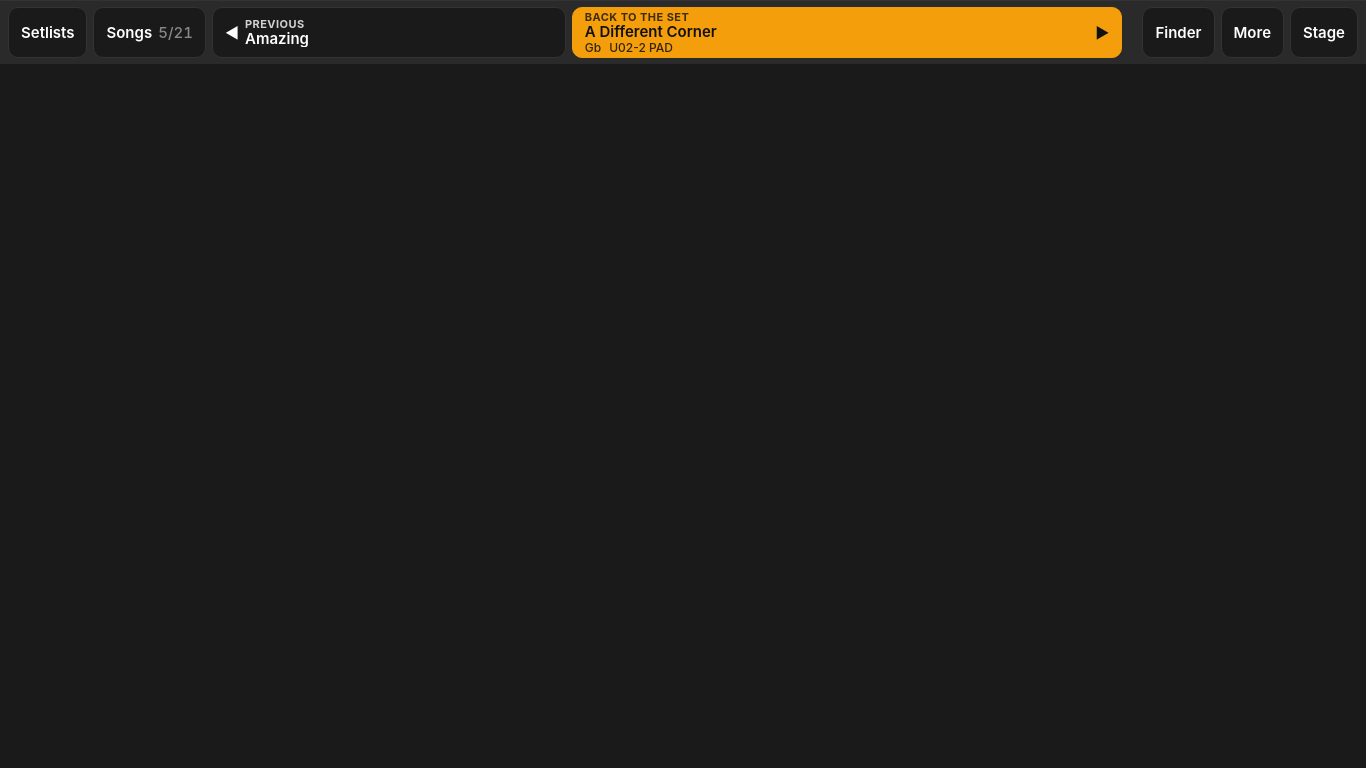
Scenario: the Setlists sheet › during an extra marks the song the player left in the playing list
The width and height of the screenshot is (1366, 768).
Click the button "Setlists": (48, 32) [8,7,88,58]
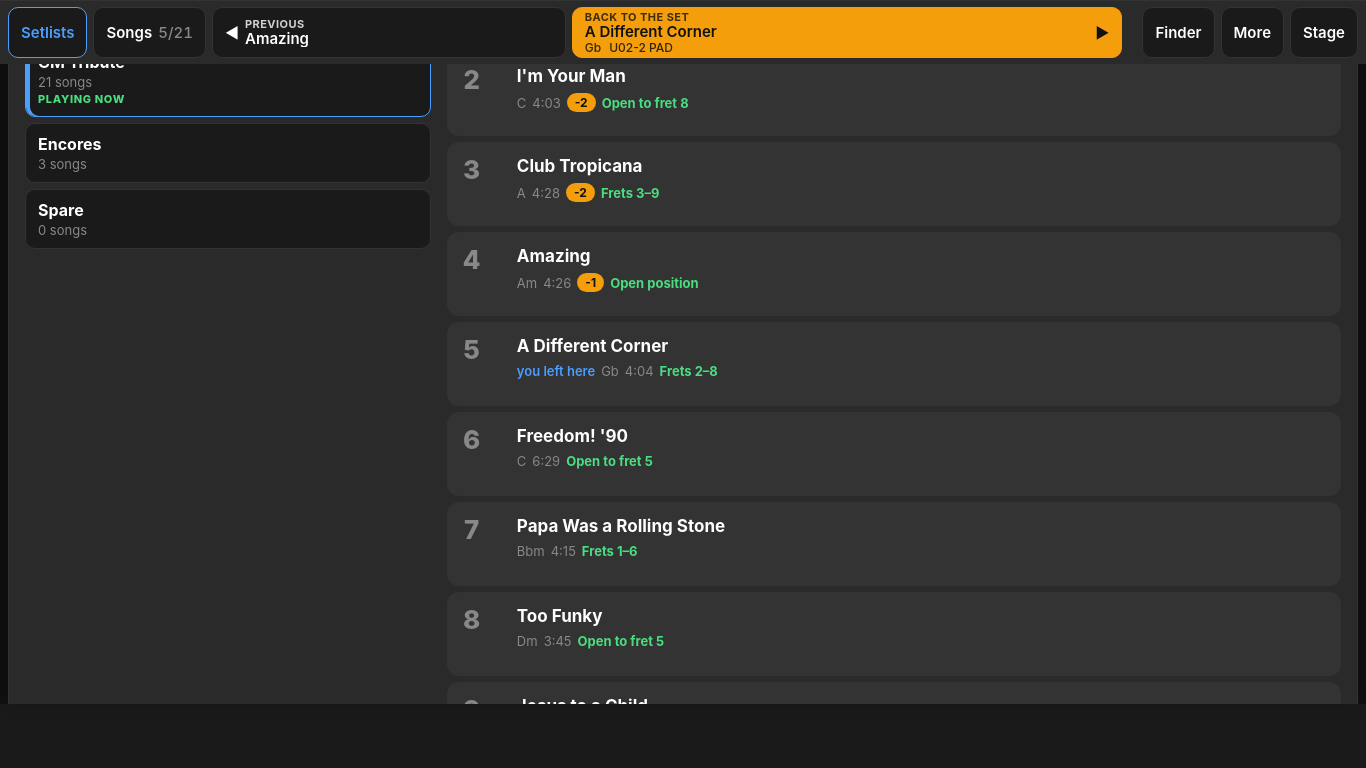
Result: the text "you left here" is shown at [517,363,595,379]
